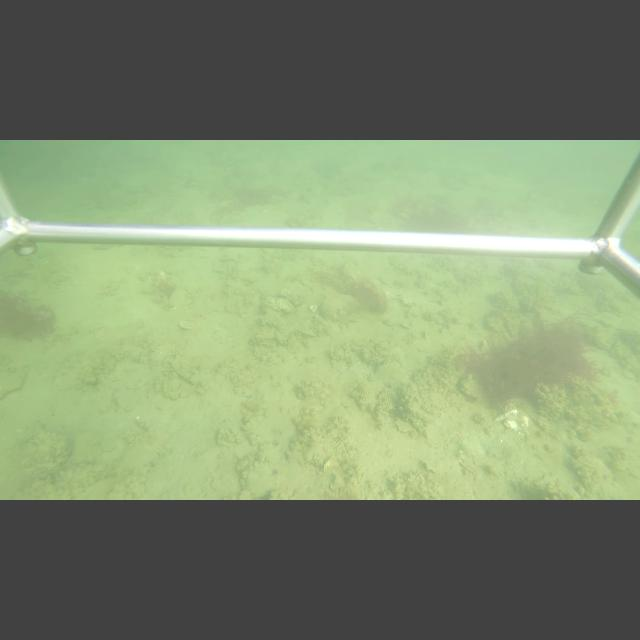Oyster-Closed: (293, 324, 321, 339)
